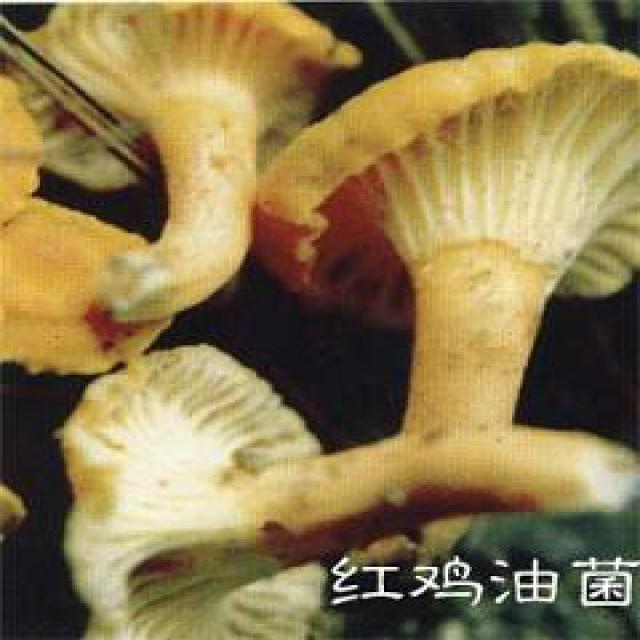Cantharellus cibarius: (64, 352, 633, 634), (277, 48, 640, 427), (4, 0, 357, 319)
